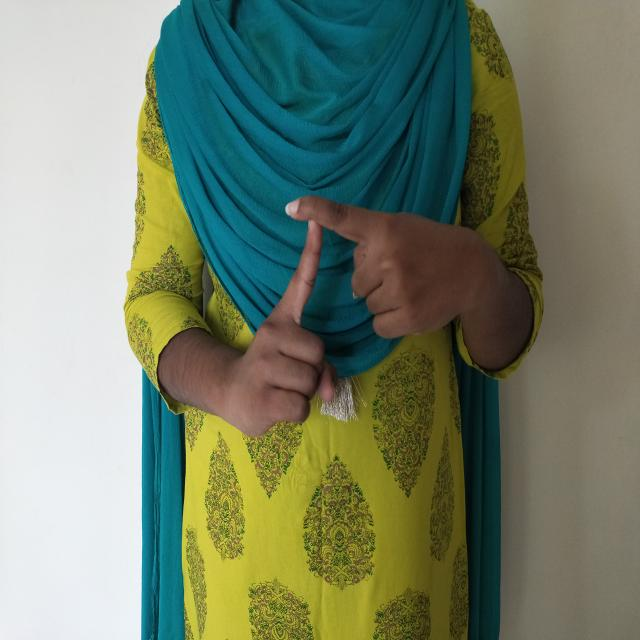T: (227, 184, 469, 441)
